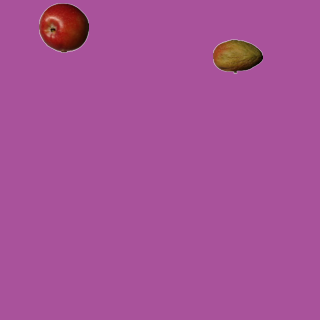Apple Braeburn: (38, 2, 88, 52)
Papaya: (212, 31, 262, 81)
